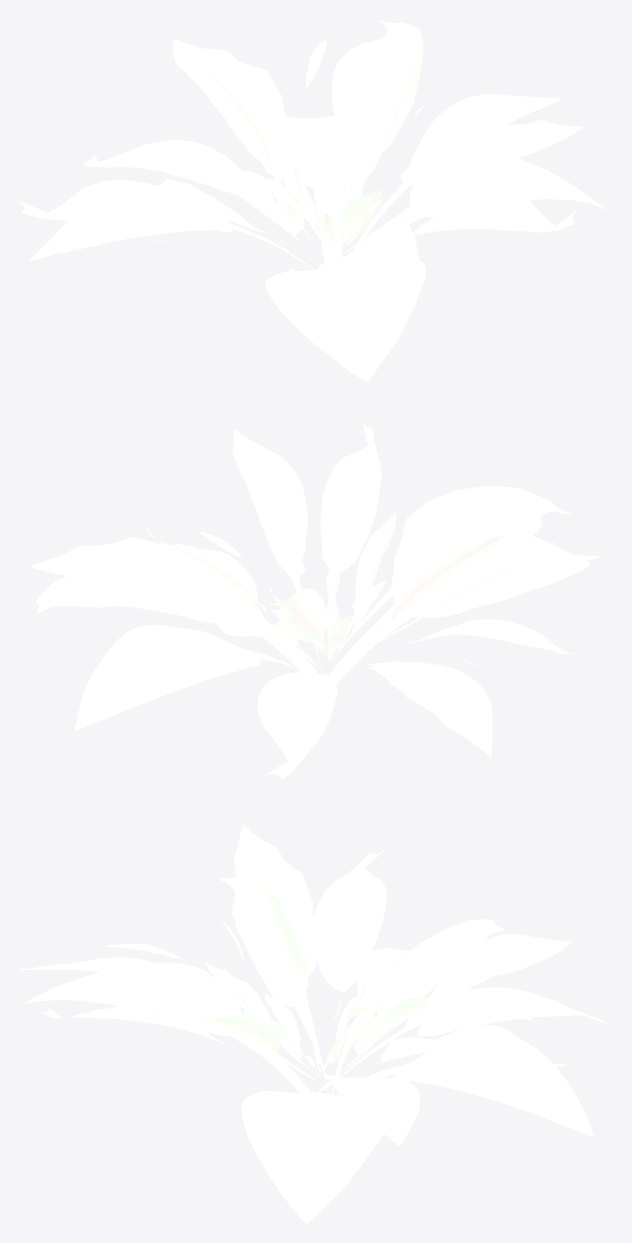
3 renders of one model, top to bottom at view 1: azimuth 30°, elevation 25°; view 2: azimuth 150°, elevation 25°; view 3: azimuth 270°, elevation 25°, orthographic. The views are drawn at different scales.
Parts seen in each view (by area): view 1: SM_BM_Sm_Plant_04_LOD0; view 2: SM_BM_Sm_Plant_04_LOD0; view 3: SM_BM_Sm_Plant_04_LOD0.
Part boxes in pixels (x1,y1,x2,y2): SM_BM_Sm_Plant_04_LOD0: (17,20,611,382); SM_BM_Sm_Plant_04_LOD0: (29,420,602,779); SM_BM_Sm_Plant_04_LOD0: (20,824,612,1224).
Bounding box in the file's own units: 2.2 × 0.6659 × 2.07.
Materials: 1 (1 with a texture image).
